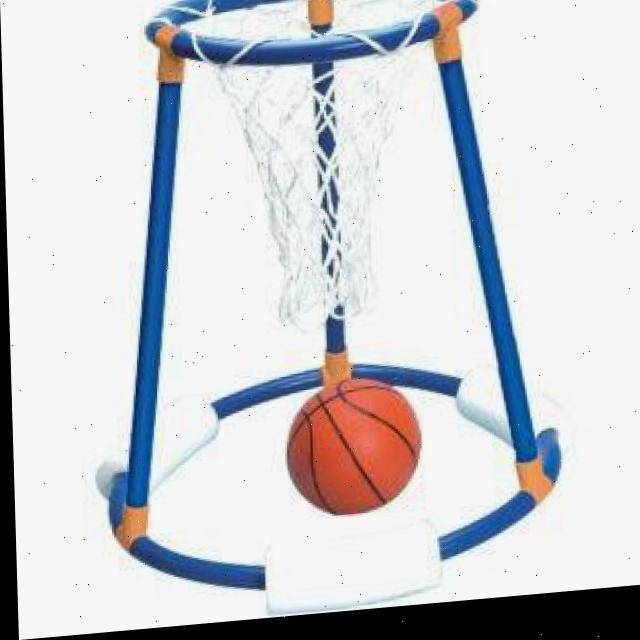basketball: (283, 371, 425, 522)
hoop: (145, 0, 490, 349)
